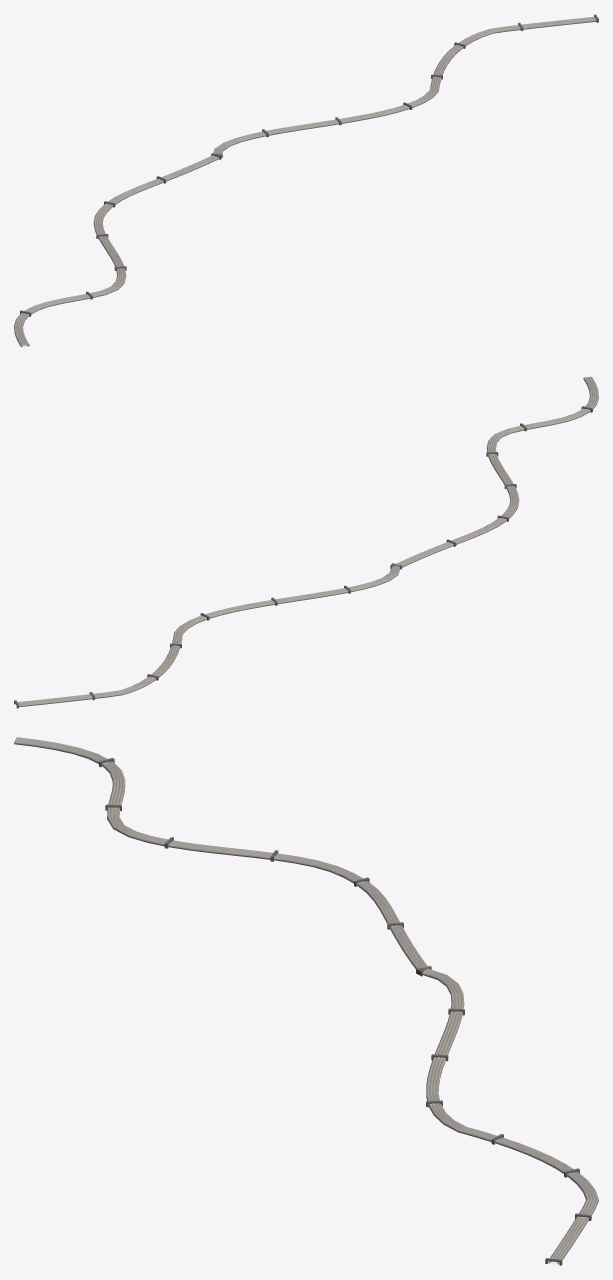
File: Test_Rope2__3.fbx
3 views of the same model, one above another, from view 1: azimuth 30°, elevation 25°; view 2: azimuth 210°, elevation 25°; view 3: azimuth 270°, elevation 25° (orthographic). The views are drawn at different scales.
Parts seen in each view (by area): view 1: Mat_Tile_Color_07 1, Mat_Tile_Color_07 2, Mat_Tile_Color_07 3, Mat_Tile_Color_01 1; view 2: Mat_Tile_Color_07 1, Mat_Tile_Color_07 2, Mat_Tile_Color_07 3, Mat_Tile_Color_01 1; view 3: Mat_Tile_Color_07 1, Mat_Tile_Color_07 2, Mat_Tile_Color_07 3, Mat_Tile_Color_01 1.
Part boxes in pixels (bbox=[...]): Mat_Tile_Color_07 1: bbox=[14, 16, 595, 347]; Mat_Tile_Color_07 2: bbox=[20, 19, 596, 346]; Mat_Tile_Color_07 3: bbox=[16, 17, 595, 345]; Mat_Tile_Color_01 1: bbox=[20, 14, 598, 316]; Mat_Tile_Color_07 1: bbox=[18, 376, 598, 707]; Mat_Tile_Color_07 2: bbox=[17, 377, 592, 702]; Mat_Tile_Color_07 3: bbox=[19, 377, 596, 704]; Mat_Tile_Color_01 1: bbox=[14, 406, 592, 708]; Mat_Tile_Color_07 1: bbox=[15, 737, 598, 1264]; Mat_Tile_Color_07 2: bbox=[14, 741, 589, 1263]; Mat_Tile_Color_07 3: bbox=[15, 738, 595, 1259]; Mat_Tile_Color_01 1: bbox=[99, 758, 591, 1265].
Bounding box in the file's own units: 43.54 × 0.1814 × 20.46.
Materials: 5 (5 with a texture image).
